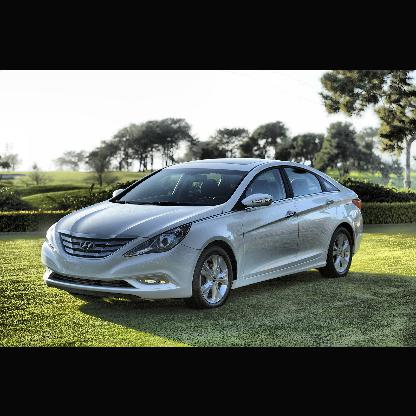Hyundai Sonata Sedan 2012: (43, 159, 365, 316)
